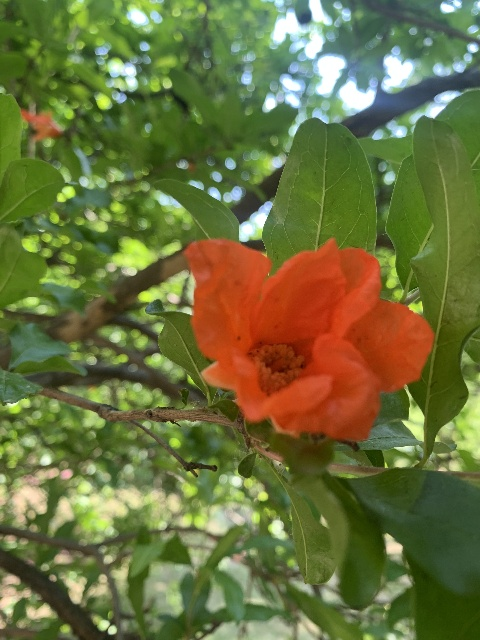flower: (182, 234, 433, 443), (19, 106, 63, 141)
